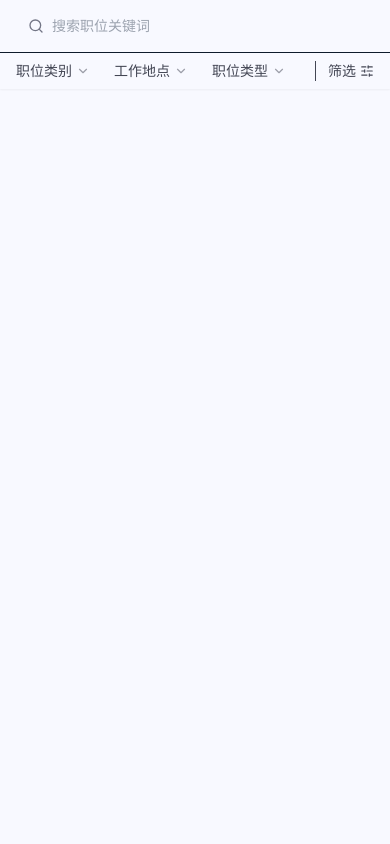
Test: user jobs page filters › opens embedded location panel inside mobile dropdown when clicking 工作地点
The width and height of the screenshot is (390, 844).
Click the button "工作地点": (151, 71) x1=114 y1=61 x2=188 y2=81
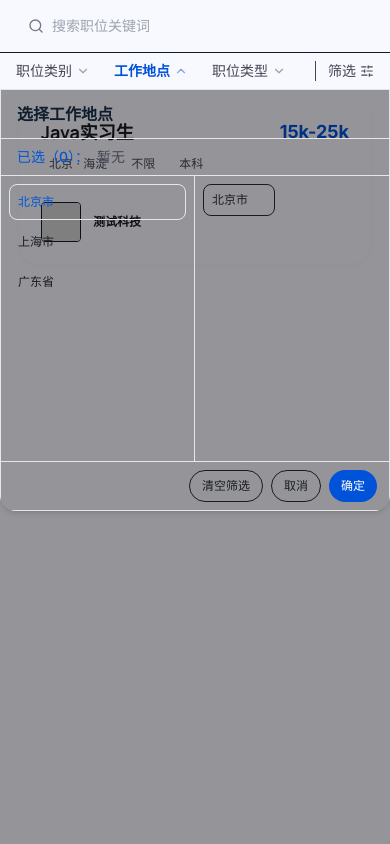
Now the text "选择工作地点" is shown, box x1=1 y1=90 x2=389 y2=139
Now the 1st button "北京市" is shown, box x1=9 y1=184 x2=186 y2=220
